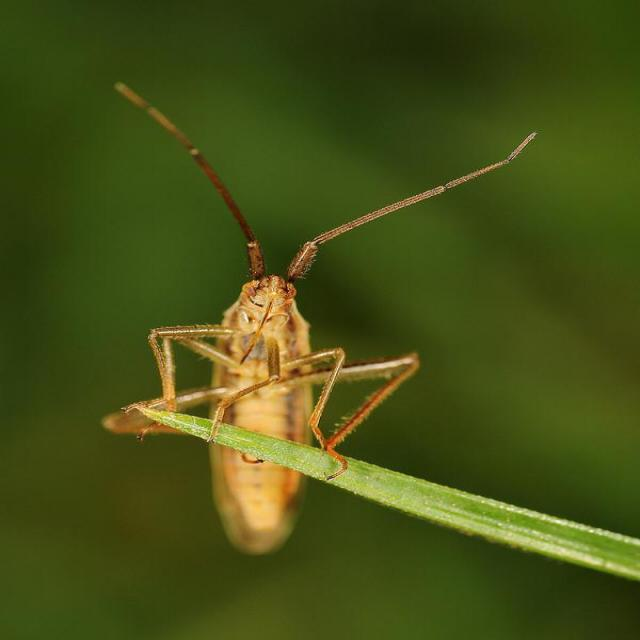Miridae-Adult-: (63, 68, 564, 560)
